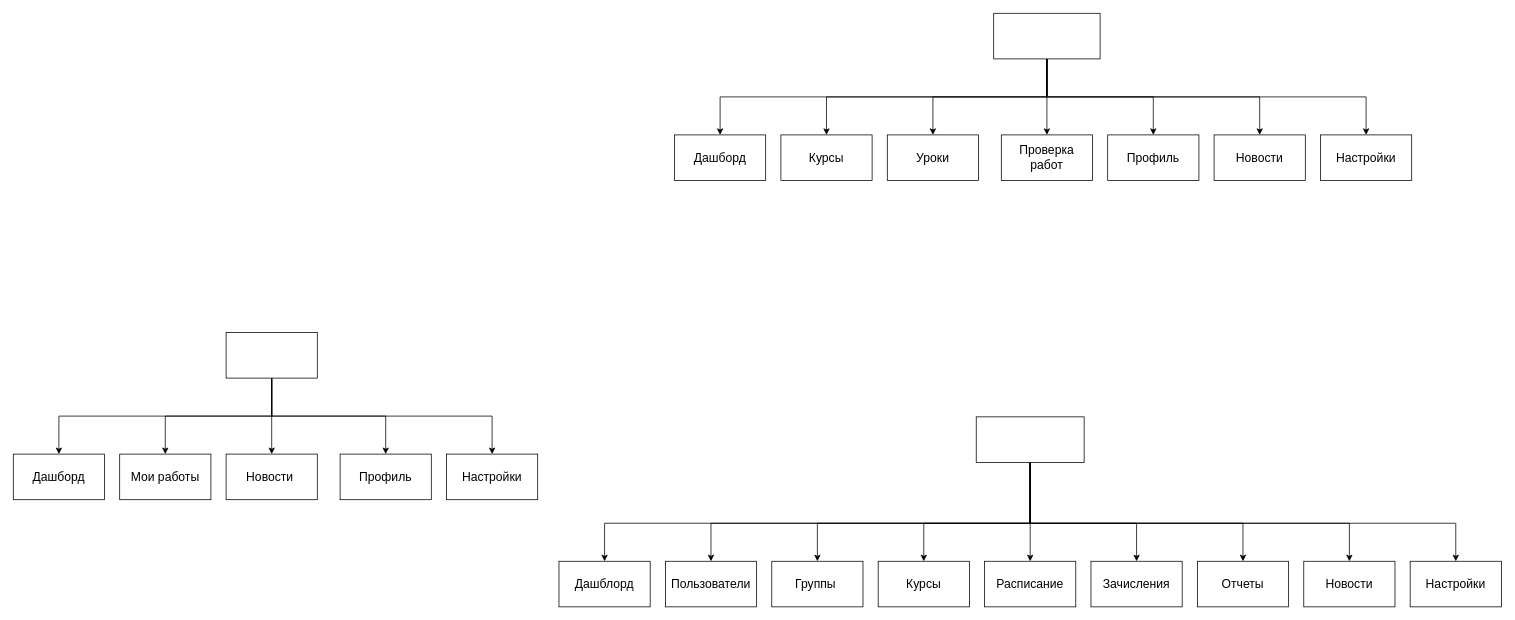
This 1515x620 diagram has some shape labels left out. Here are the shapes that lost their labels. From the top down, the centre of each, then its label:
At [1046,36]: "Прпеодаватель".
At [271,355]: "Студент".
At [1029,439]: "Администратор".
